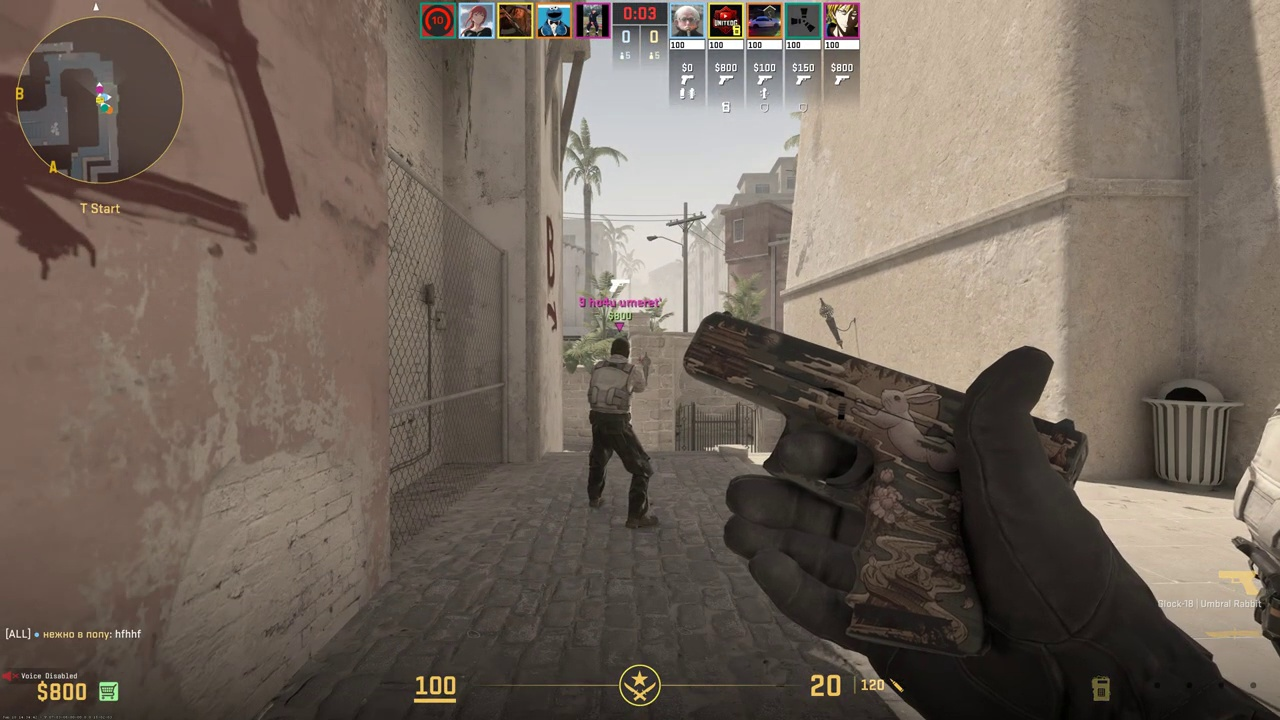Terrorist: (587, 338, 655, 529)
